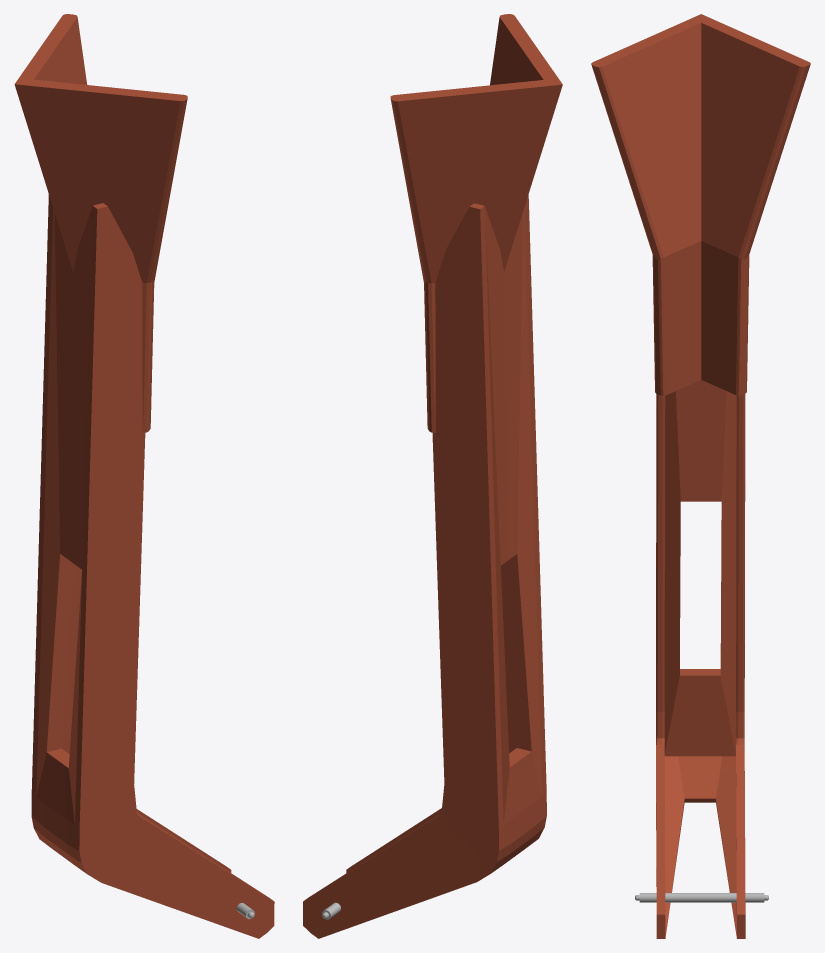
Rendered from only_flipper.fbx.
3 renders of one model, left to right at view 1: azimuth 30°, elevation 25°; view 2: azimuth 150°, elevation 25°; view 3: azimuth 270°, elevation 25°, orthographic. The views are drawn at different scales.
Visible parts, largest first — view 1: base1.007; view 2: base1.007; view 3: base1.007.
Part boxes in pixels (x1=…): base1.007: x1=14, y1=14, x2=274, y2=938; base1.007: x1=303, y1=14, x2=562, y2=938; base1.007: x1=591, y1=14, x2=810, y2=938.
Bounding box in the file's own units: 385 × 1593 × 442.
